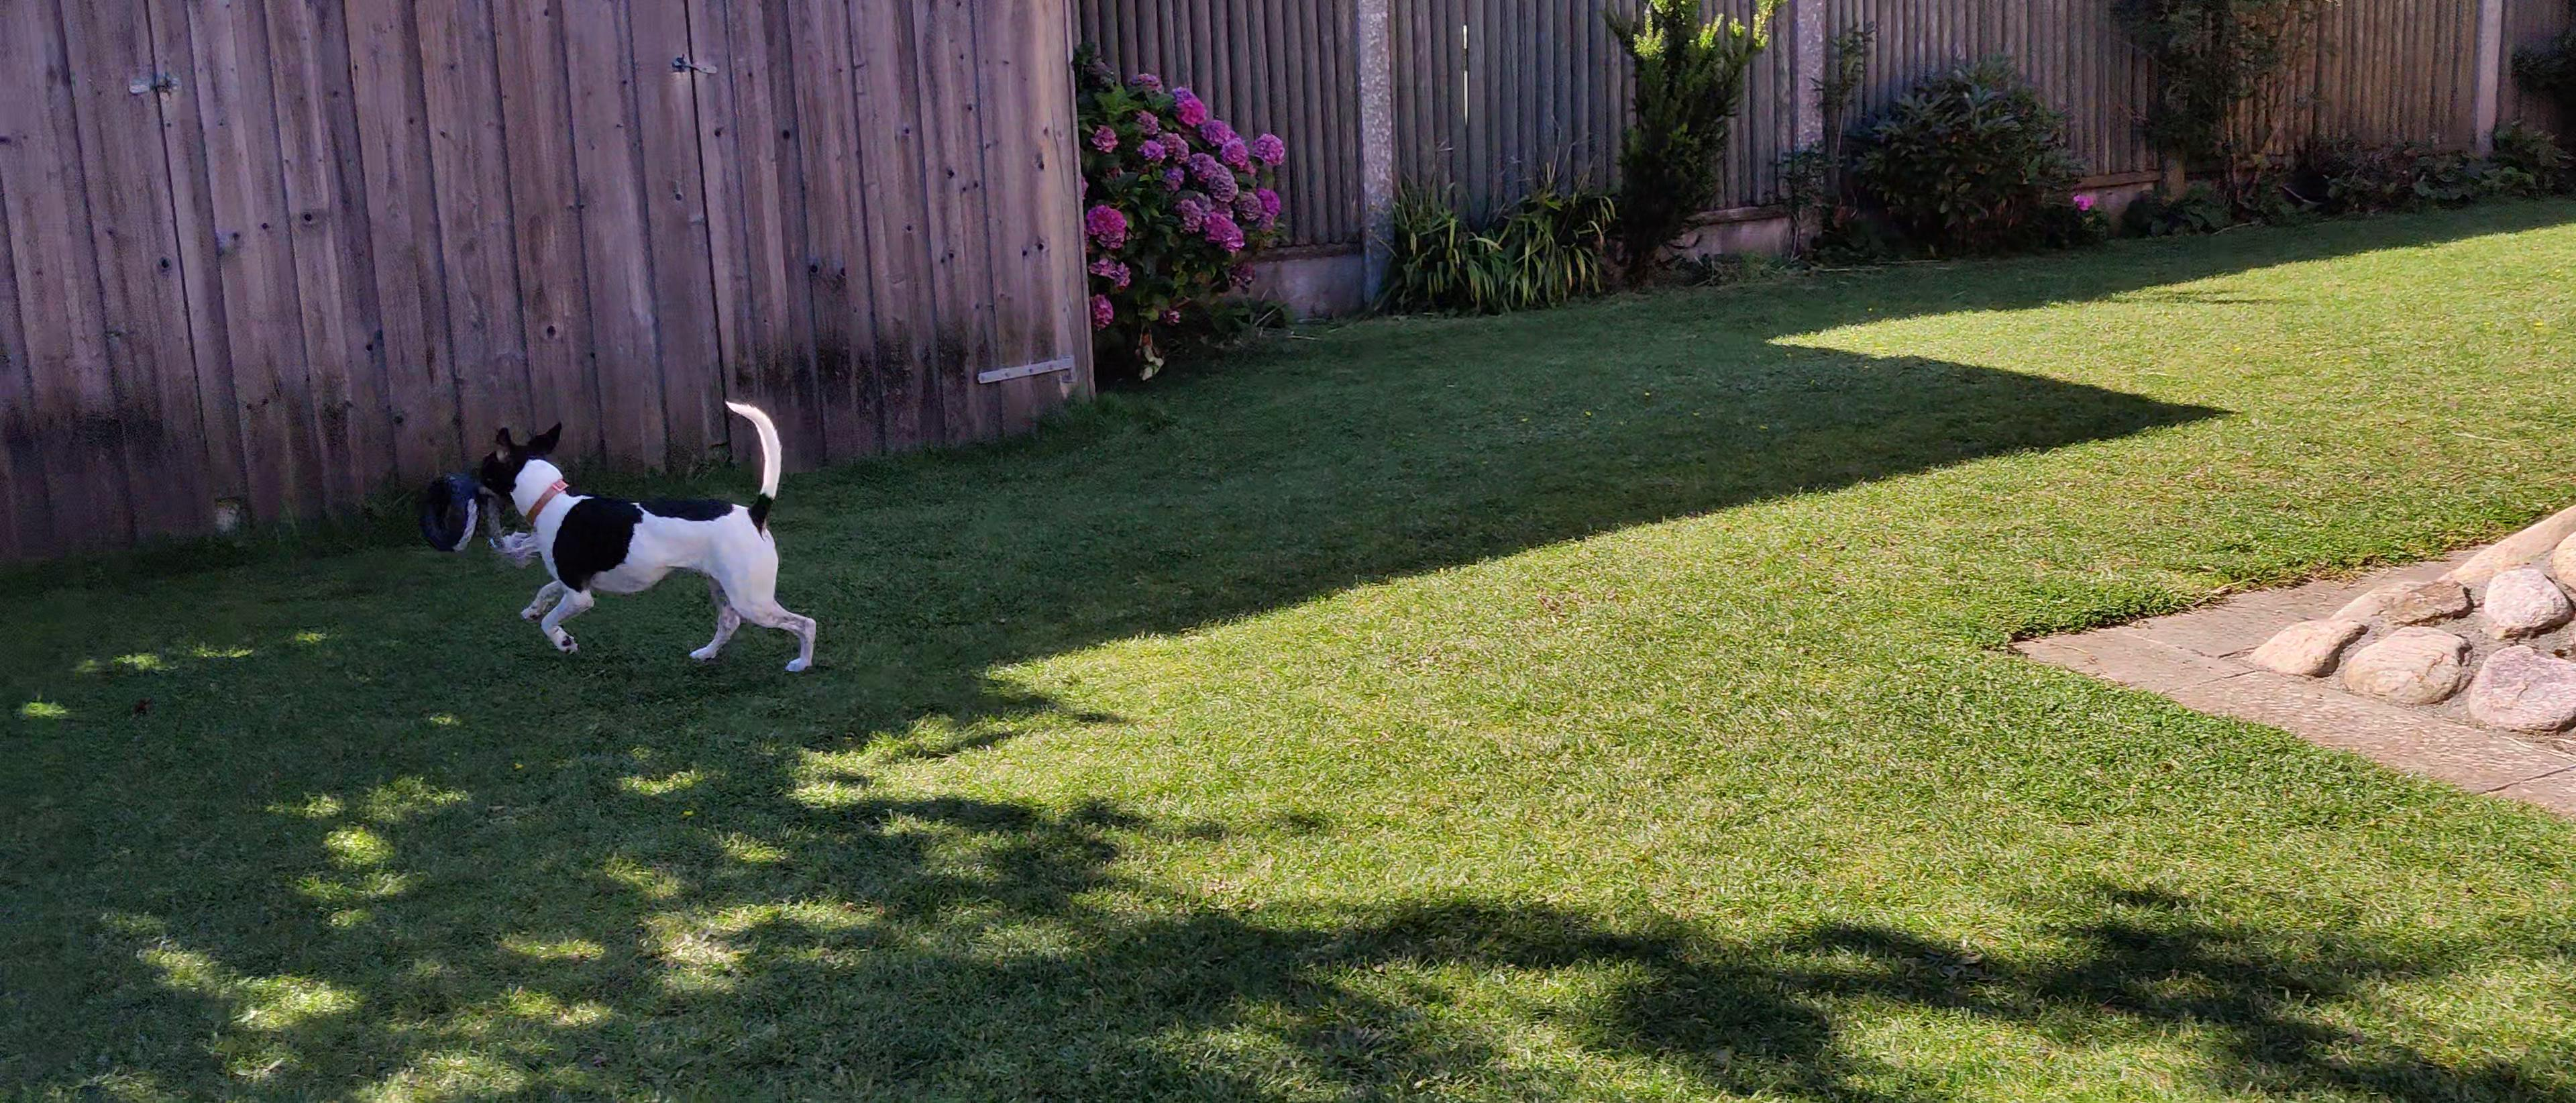Dog: (463, 386, 841, 690)
